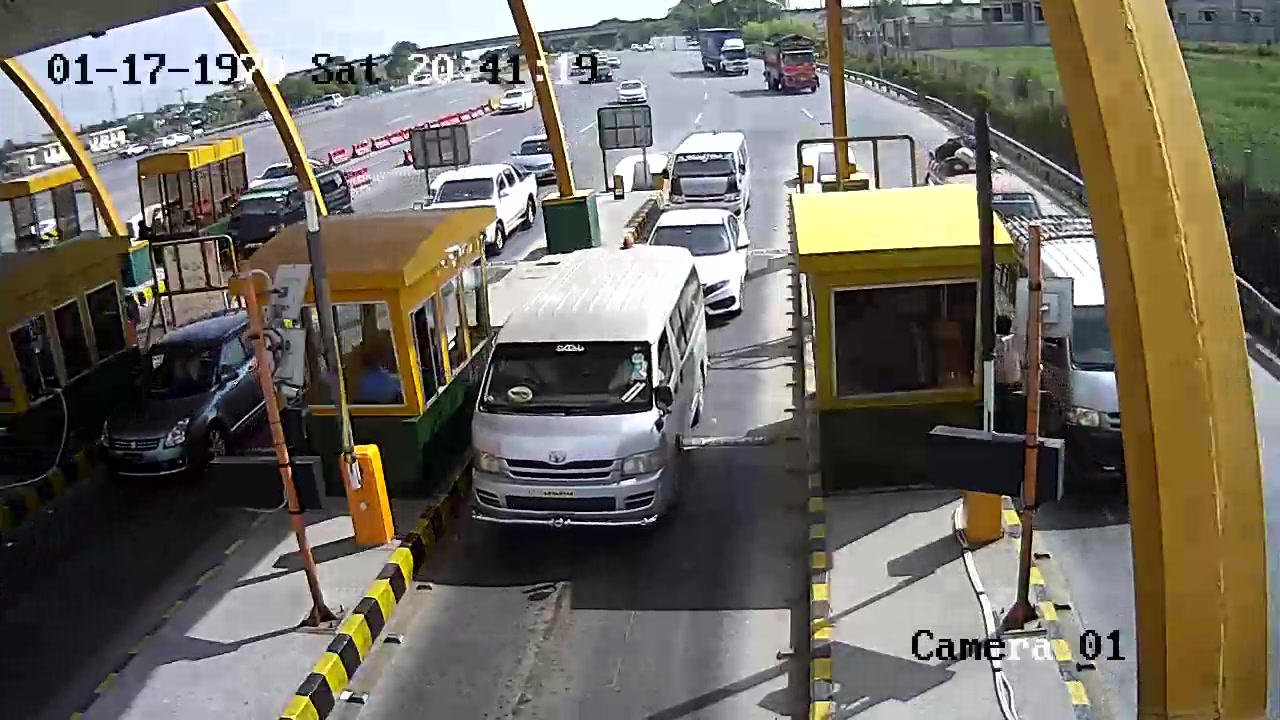F2: (467, 234, 711, 567)
